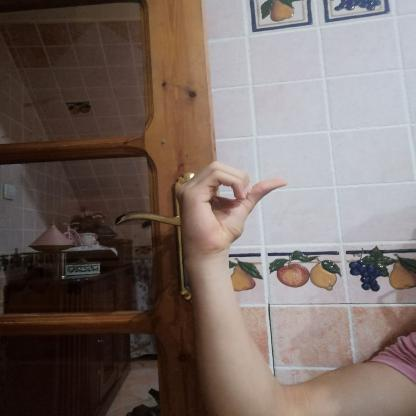WAW: (164, 152, 298, 264)
